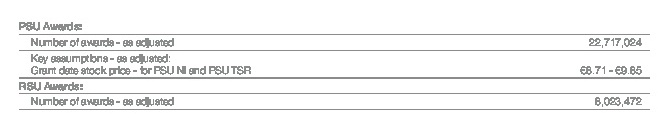table: (0, 0, 666, 133)
